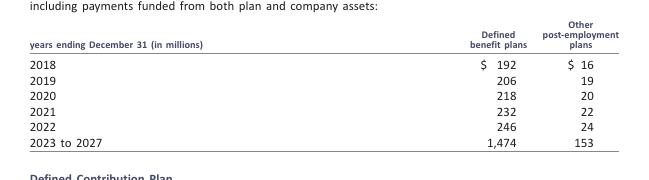table: (28, 29, 617, 148)
table column: (28, 29, 335, 148), (335, 29, 533, 148), (533, 29, 617, 148)
table column header: (28, 29, 617, 53)
table row: (28, 29, 617, 53), (28, 53, 617, 72), (28, 87, 617, 103), (28, 118, 617, 134), (28, 72, 617, 87), (28, 103, 617, 118), (28, 134, 617, 148)
